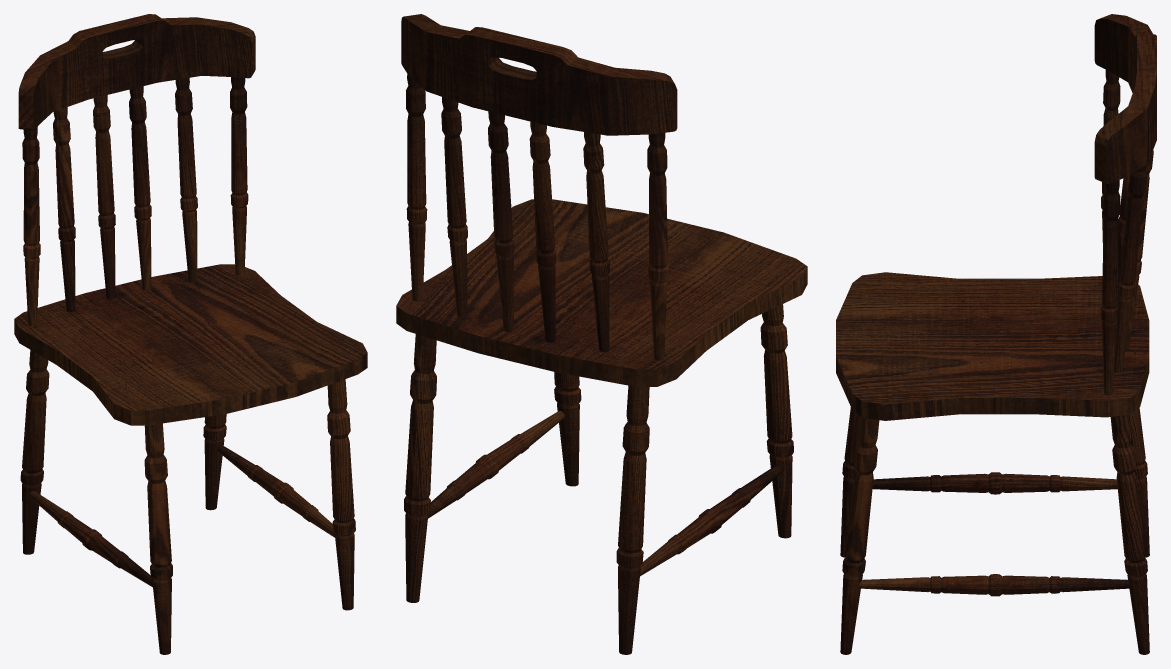
Rendered from Chair.glb.
3 renders of one model, left to right at view 1: azimuth 30°, elevation 25°; view 2: azimuth 150°, elevation 25°; view 3: azimuth 270°, elevation 25°, orthographic. The views are drawn at different scales.
Parts seen in each view (by area): view 1: Chair; view 2: Chair; view 3: Chair.
Part boxes in pixels (x1,y1,x2,y2): Chair: (14,14,367,654); Chair: (396,14,807,654); Chair: (836,14,1156,654).
Size of the model in its own units: 0.4934 by 0.9548 by 0.5055.
Materials: 1 (1 with a texture image).
